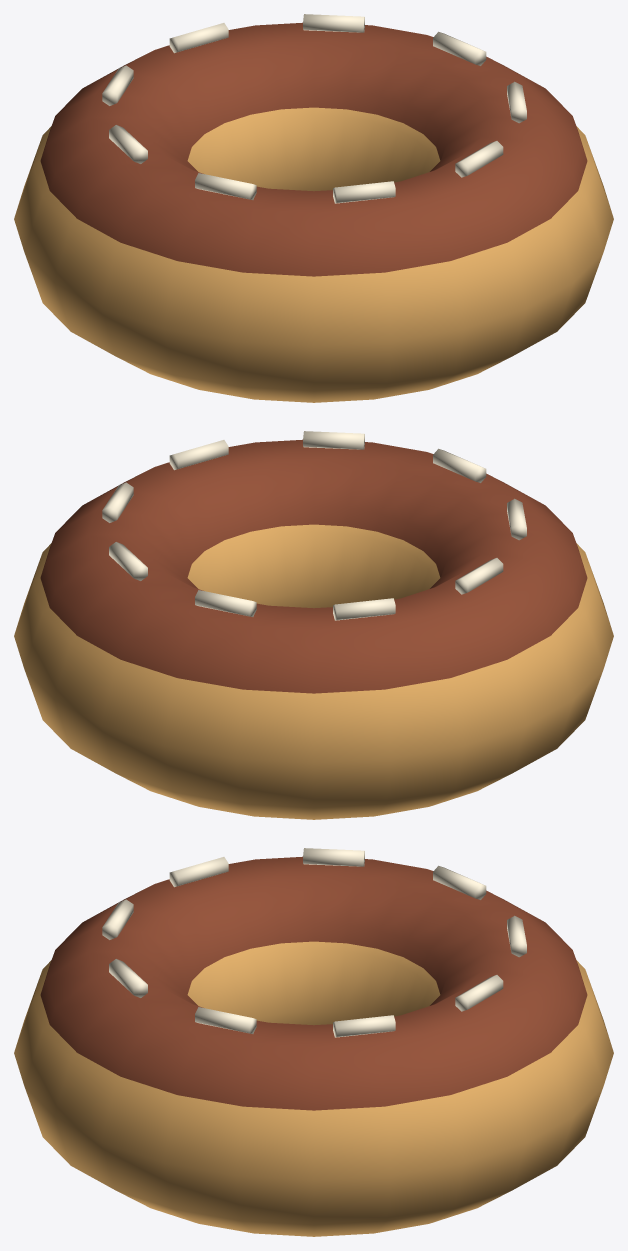
Rendered from donut.glb.
3 renders of one model, top to bottom at view 1: azimuth 30°, elevation 25°; view 2: azimuth 150°, elevation 25°; view 3: azimuth 270°, elevation 25°, orthographic.
Parts seen in each view (by area): view 1: donut; view 2: donut; view 3: donut.
Boxes of the visible parts, x1,y1,x2,y2 form: donut: (14,14,613,402); donut: (14,431,613,819); donut: (14,848,613,1236).
Size of the model in its own units: 1 by 0.3758 by 1.
